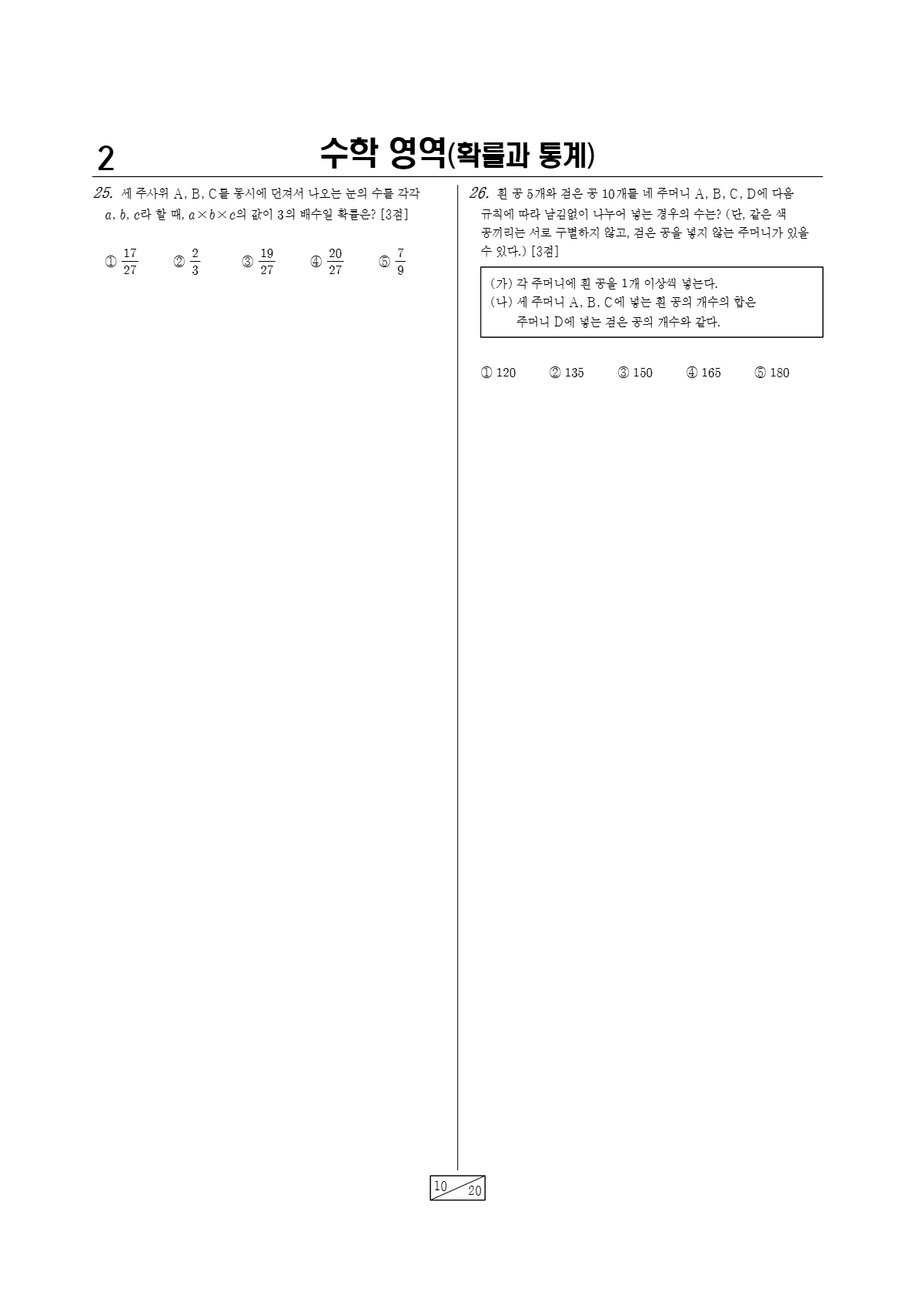opt_1: (476, 363, 495, 380), (105, 254, 117, 267)
opt_2: (172, 253, 185, 268), (548, 365, 561, 379)
opt_3: (241, 253, 255, 269), (616, 364, 630, 379)
opt_4: (309, 253, 323, 269), (686, 364, 697, 379)
opt_5: (378, 254, 390, 268), (754, 365, 766, 378)
